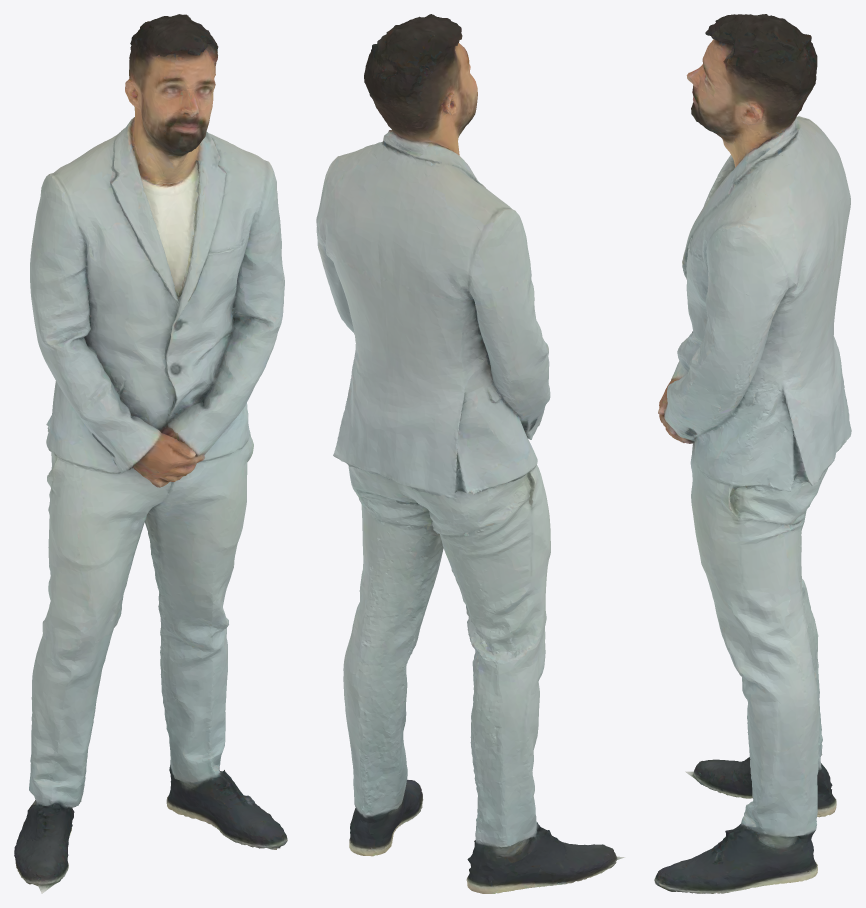
Rendered from angel.glb.
The picture shows the model from 3 angles, left to right: view 1: azimuth 30°, elevation 25°; view 2: azimuth 150°, elevation 25°; view 3: azimuth 270°, elevation 25°; orthographic projection. The views are drawn at different scales.
Parts seen in each view (by area): view 1: Mesh_0_Part_0; view 2: Mesh_0_Part_0; view 3: Mesh_0_Part_0.
Part boxes in pixels (left/top/right/bottom): Mesh_0_Part_0: left=14, top=14, right=287, bottom=893; Mesh_0_Part_0: left=316, top=14, right=624, bottom=893; Mesh_0_Part_0: left=654, top=14, right=851, bottom=893.
Size of the model in its own units: 0.5874 by 1.69 by 0.3612.
Materials: 1 (1 with a texture image).
